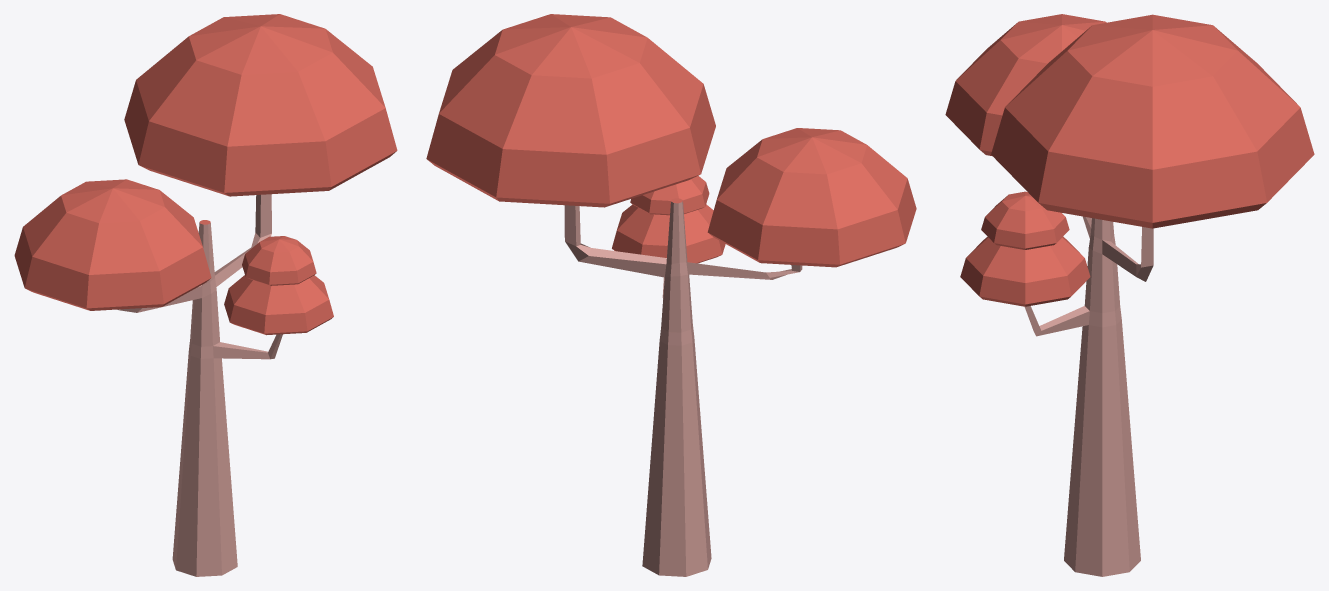
File: ENV_mushroomtree_color.fbx
The picture shows the model from 3 angles, left to right: view 1: azimuth 30°, elevation 25°; view 2: azimuth 150°, elevation 25°; view 3: azimuth 270°, elevation 25°; orthographic projection. The views are drawn at different scales.
Visible parts, largest first — view 1: Sphere.001; view 2: Sphere.001; view 3: Sphere.001.
Part boxes in pixels (x1=…): Sphere.001: x1=14, y1=14, x2=397, y2=576; Sphere.001: x1=426, y1=14, x2=916, y2=576; Sphere.001: x1=945, y1=14, x2=1314, y2=576.
Size of the model in its own units: 621 by 885 by 1066.
